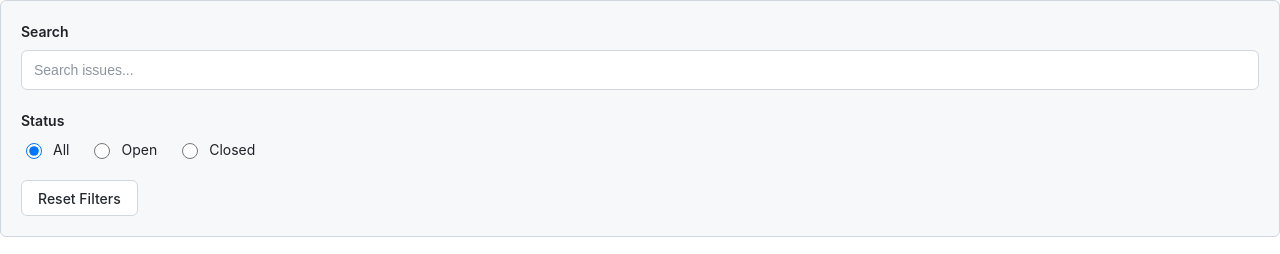
Test: IssueFilters › reset button › should select ALL status when reset
The width and height of the screenshot is (1280, 254).
# Select CLOSED
Click the radio button with aria-label "show only closed issues" at (190, 151), box [182,143,198,159]
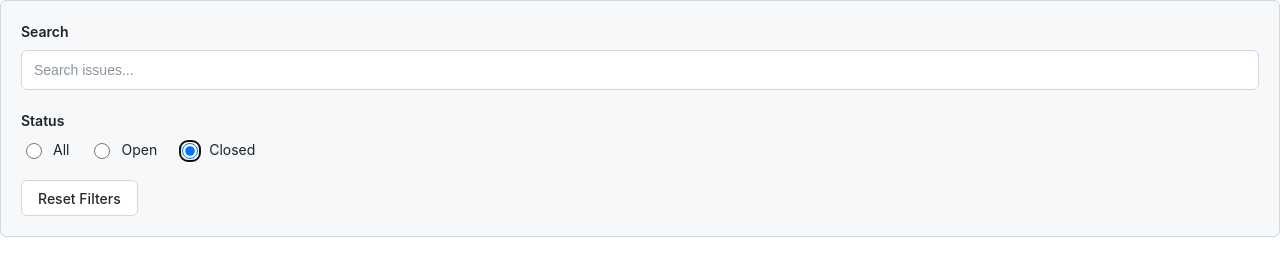
Click the button with aria-label "reset all filters" at (79, 198), box [21,180,138,216]
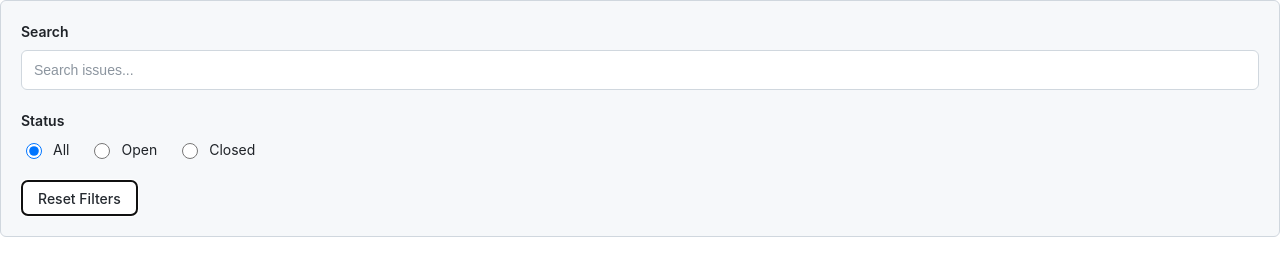
Expected: the radio button with aria-label "show all issues" is checked, [26,143,42,159]
